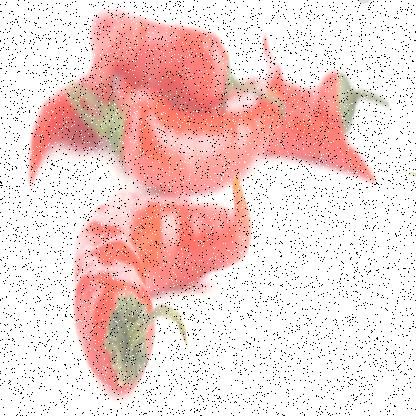chili: (62, 158, 253, 402)
